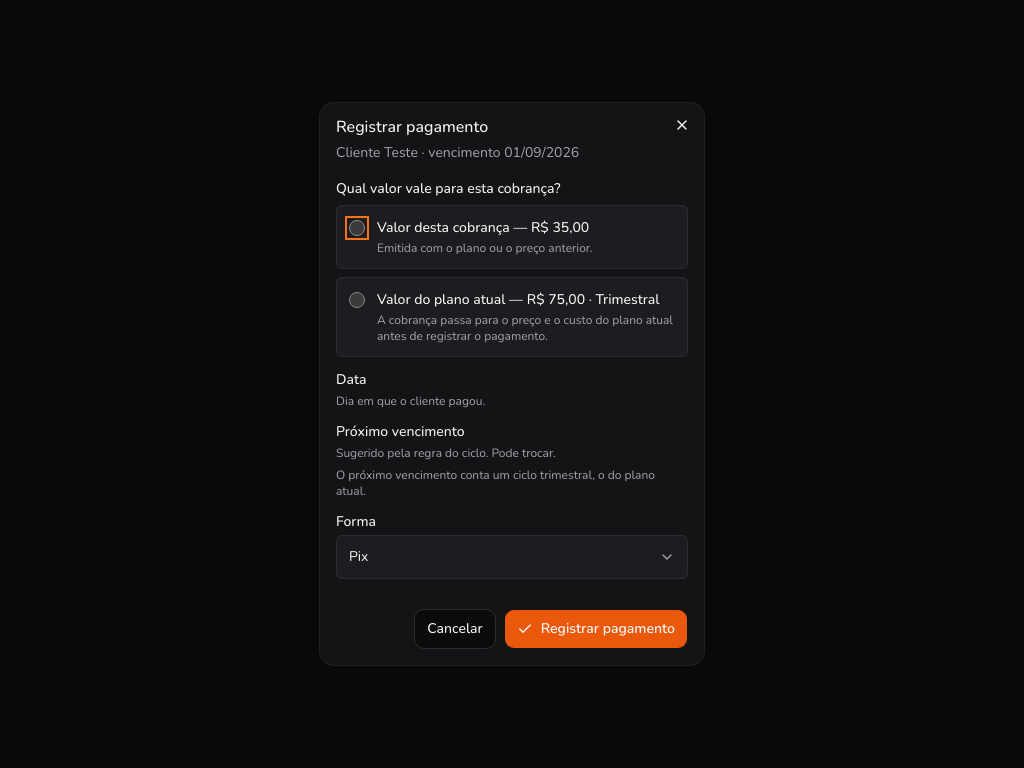
Test: RegisterPaymentDialog — cobrança com valor de um plano anterior › enviar sem escolher mostra o erro e não registra nada
Click the button "Registrar pagamento": (596, 629) [504,609,688,649]
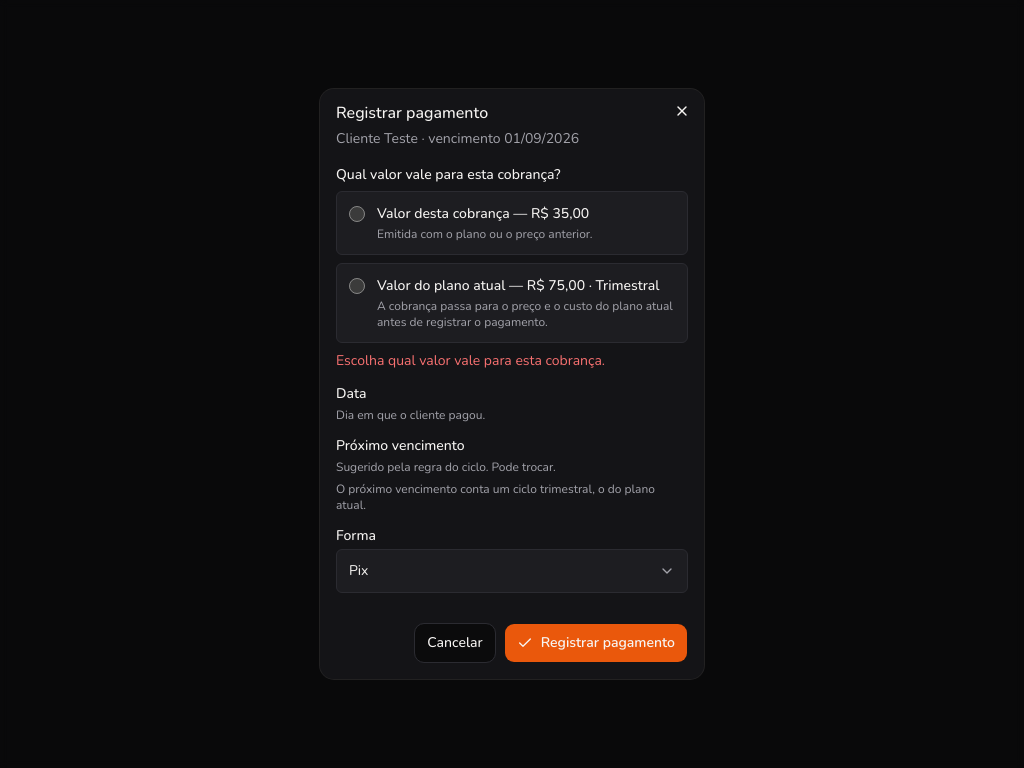
Result: the text "Escolha qual valor vale para esta cobrança." is shown at [336,351,605,370]
